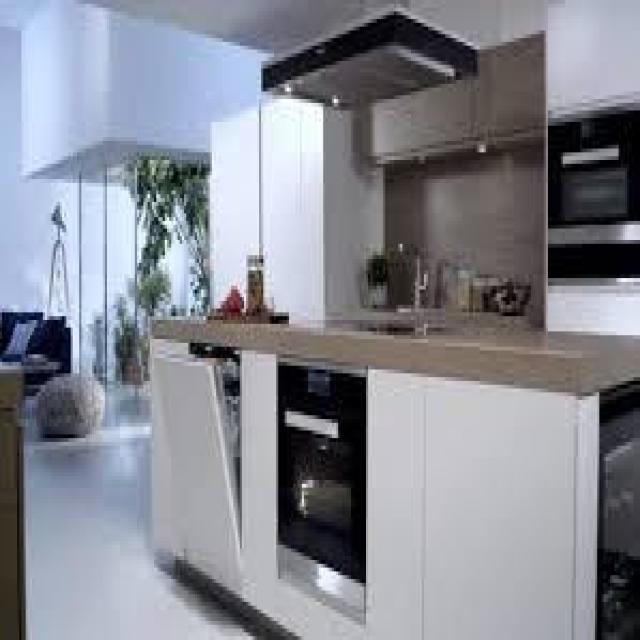dishwasher: (146, 336, 250, 590)
